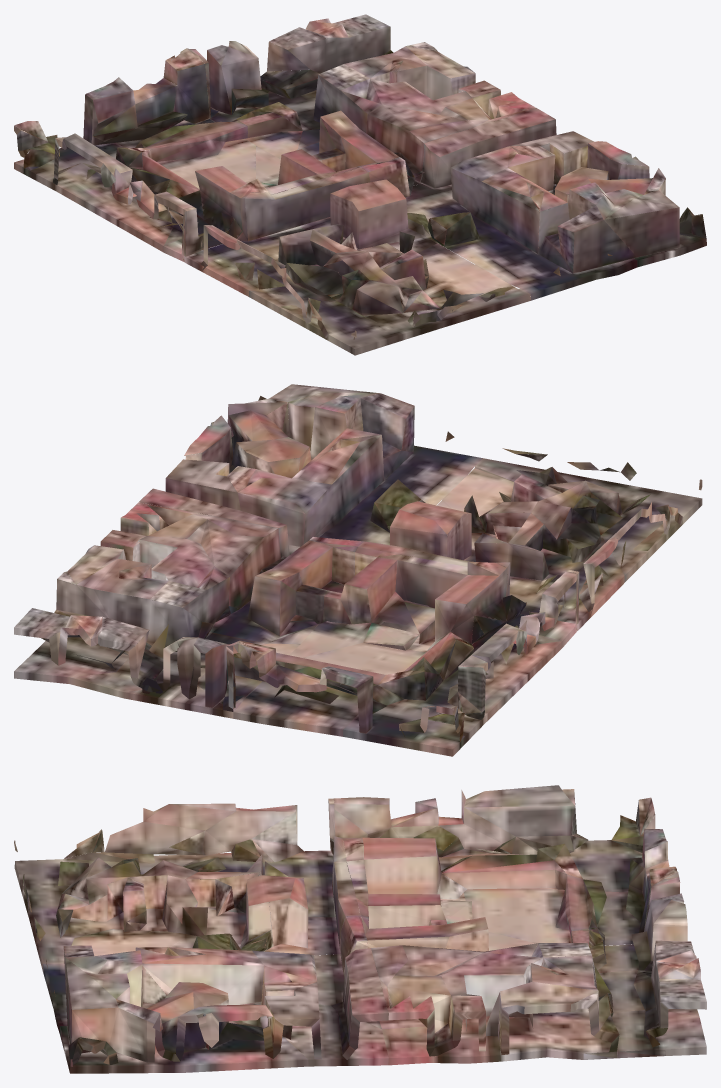
3 views of the same model, one above another, from view 1: azimuth 30°, elevation 25°; view 2: azimuth 150°, elevation 25°; view 3: azimuth 270°, elevation 25° (orthographic). The views are drawn at different scales.
Parts seen in each view (by area): view 1: Mesh_0; view 2: Mesh_0; view 3: Mesh_0.
Part boxes in pixels (left/top/right/bottom): Mesh_0: left=14, top=14, right=706, bottom=355; Mesh_0: left=14, top=384, right=702, bottom=756; Mesh_0: left=14, top=785, right=706, bottom=1073.
Bounding box in the file's own units: 266 × 40.9 × 330.
Materials: 2 (2 with a texture image).
